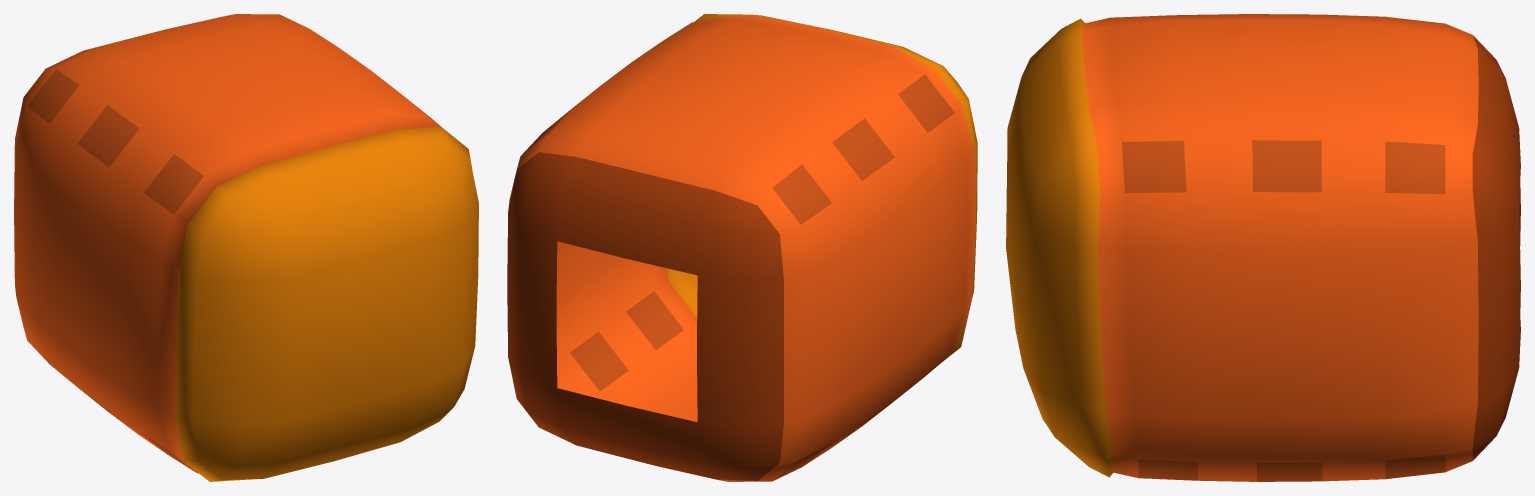
The model's file is bb_crate.glb.
3 views of the same model, side by side, from view 1: azimuth 30°, elevation 25°; view 2: azimuth 150°, elevation 25°; view 3: azimuth 270°, elevation 25° (orthographic). The views are drawn at different scales.
Parts seen in each view (by area): view 1: arena_blocker; view 2: arena_blocker; view 3: arena_blocker.
Part boxes in pixels (left/top/right/bottom): arena_blocker: left=14, top=14, right=478, bottom=481; arena_blocker: left=507, top=14, right=977, bottom=481; arena_blocker: left=1006, top=14, right=1520, bottom=481.
Bounding box in the file's own units: 1.05 × 1.05 × 1.27.
Materials: 1 (1 with a texture image).
